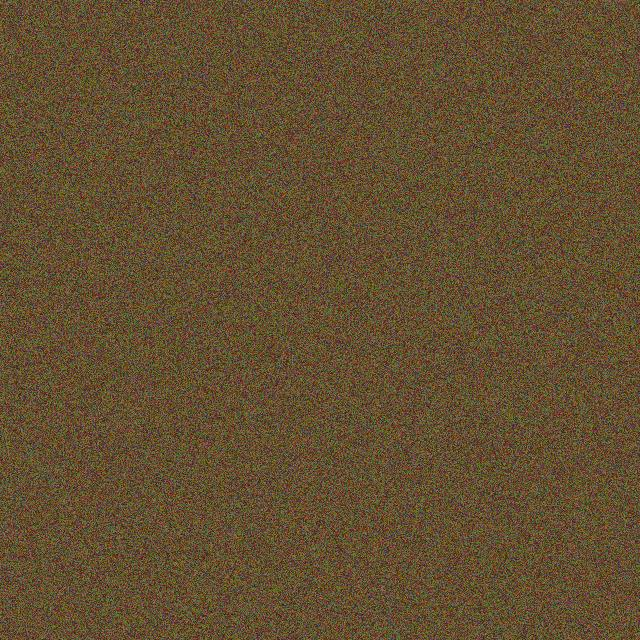human: (273, 430, 381, 522)
